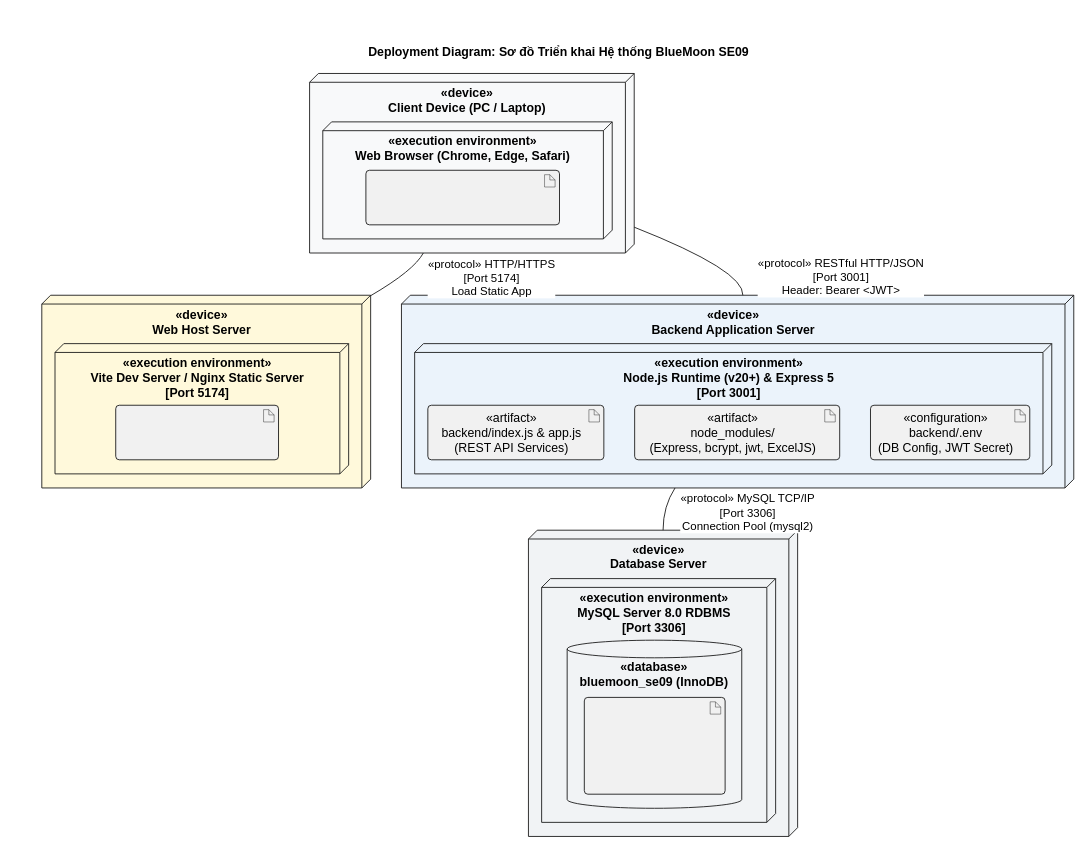
Image size: 1089x852. Some labels were removed from this diagram. The shapes that lost their labels are listed below. From the top down, each one's centre as x and y in pixels, then its label:
At pixel 462 197: "«artifact» React Single Page Application (HTML5, JS Bundle, CSS)".
At pixel 197 432: "«artifact» frontend/dist/ (Compiled Static Assets)".
At pixel 654 745: "Tables: - users - apartments - households - residents - residency_events".
